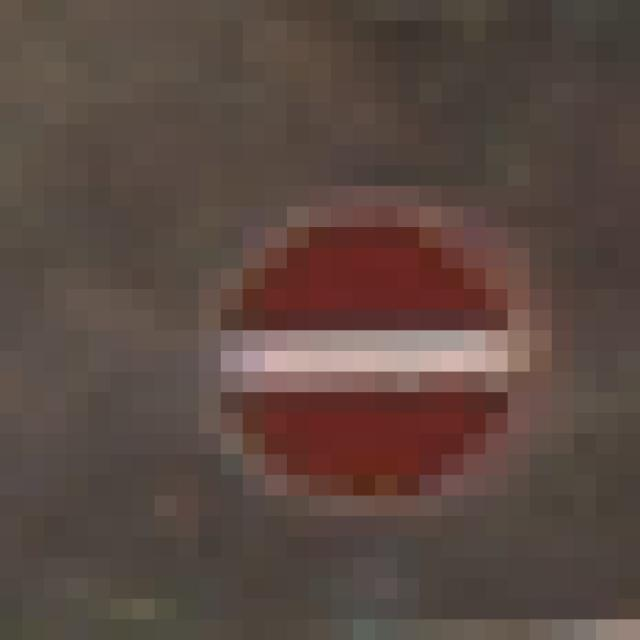No Entry: (134, 125, 531, 517)
